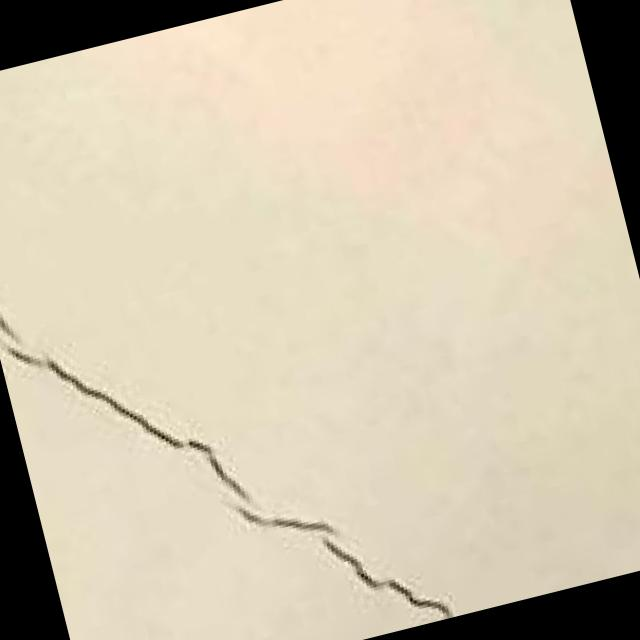crack: (0, 171, 521, 640)
